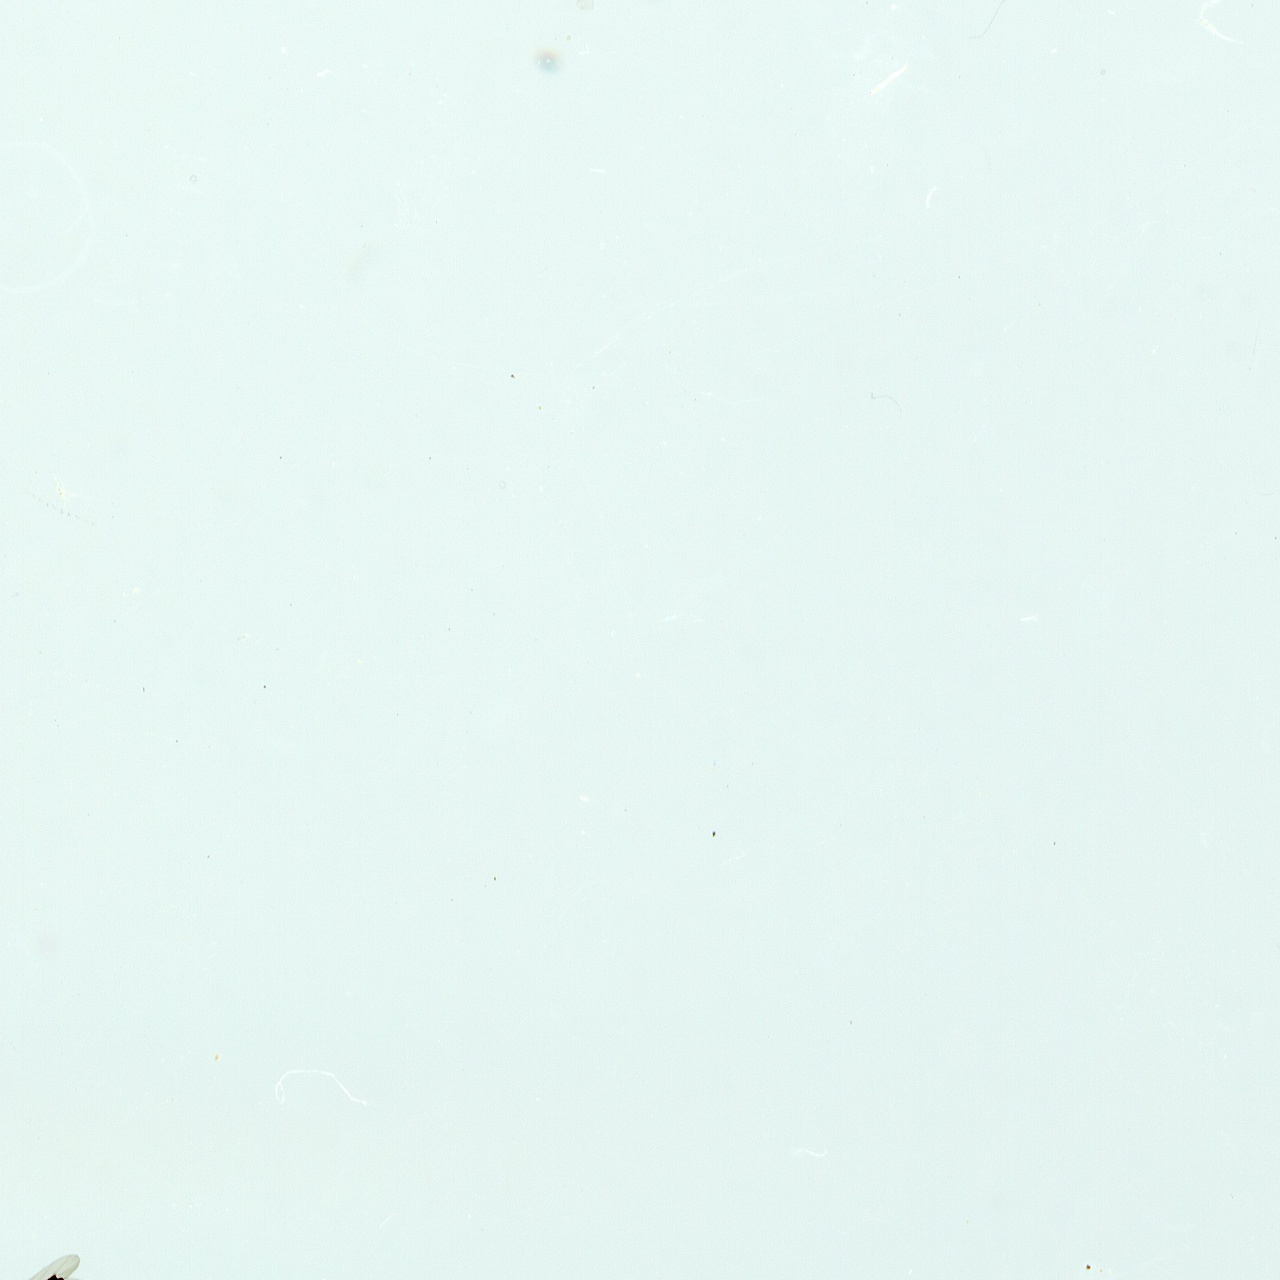arthropod: (0, 1251, 124, 1280)
